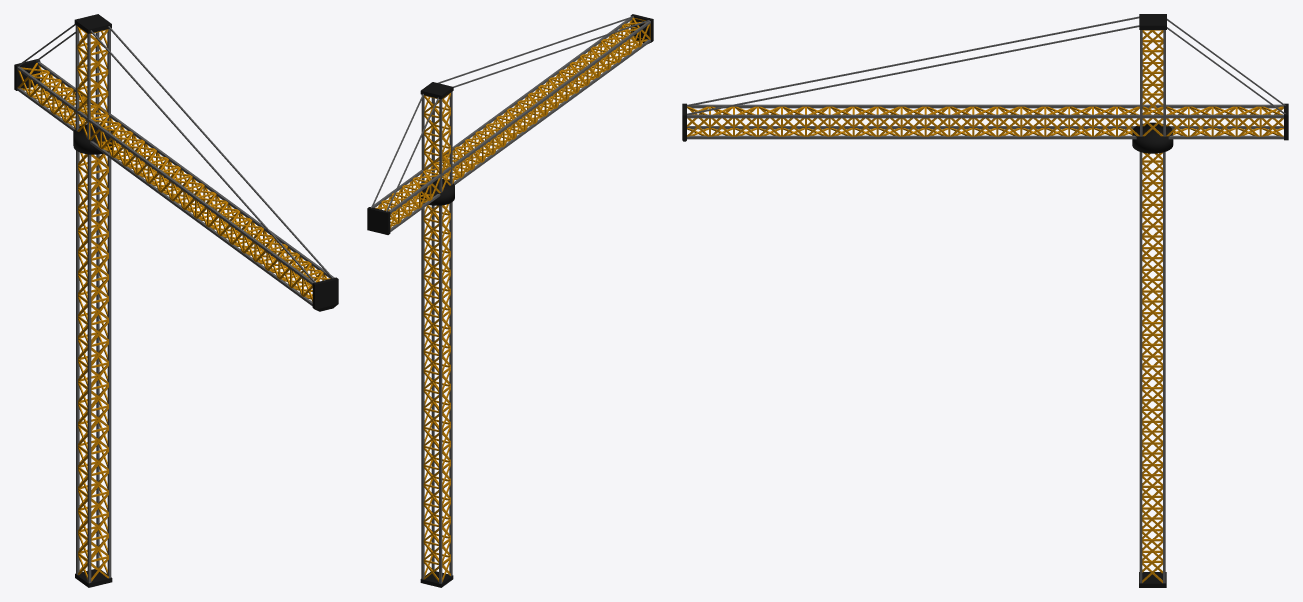
File: crane2.obj
The picture shows the model from 3 angles, left to right: view 1: azimuth 30°, elevation 25°; view 2: azimuth 150°, elevation 25°; view 3: azimuth 270°, elevation 25°; orthographic projection. The views are drawn at different scales.
Parts seen in each view (by area): view 1: corners_Cube.006, corners.001_Cube.008, Cube.008_Cube.021, Cube.002_Cube.009, Cube.004_Cube.011, Cube.001_Cube.018, Cube.005_Cube.012, Cube.007_Cube.020, Cube.003_Cube.010, Cube.006_Cube.019, corners.002_Cube.014, Cube (+7 smaller); view 2: corners_Cube.006, corners.001_Cube.008, Cube.007_Cube.020, Cube.002_Cube.009, Cube.004_Cube.011, Cube.001_Cube.018, Cube.005_Cube.012, Cube.003_Cube.010, Cube.008_Cube.021, Cube.006_Cube.019, corners.002_Cube.014, base.001_Cube.002 (+6 smaller); view 3: corners.001_Cube.008, Cube.003_Cube.010, Cube.006_Cube.019, Cube.001_Cube.018, corners_Cube.006, Cube.004_Cube.011, Cube.002_Cube.009, Cube.005_Cube.012, Cube.013_Cube.017, Cube, Cylinder_Cylinder.001, Cube.011_Cube.007.
Boxes of the visible parts, left/top/right/bottom form: corners_Cube.006: left=76, top=150, right=111, bottom=583; corners.001_Cube.008: left=17, top=61, right=334, bottom=306; Cube.008_Cube.021: left=91, top=154, right=108, bottom=581; Cube.002_Cube.009: left=17, top=70, right=312, bottom=301; Cube.004_Cube.011: left=21, top=63, right=330, bottom=282; Cube.001_Cube.018: left=78, top=152, right=87, bottom=579; Cube.005_Cube.012: left=21, top=84, right=312, bottom=299; Cube.007_Cube.020: left=79, top=154, right=97, bottom=570; Cube.003_Cube.010: left=38, top=65, right=326, bottom=281; Cube.006_Cube.019: left=98, top=153, right=107, bottom=574; corners.002_Cube.014: left=75, top=25, right=110, bottom=139; Cube: left=108, top=26, right=333, bottom=278; corners_Cube.006: left=421, top=202, right=452, bottom=583; corners.001_Cube.008: left=371, top=16, right=650, bottom=232; Cube.007_Cube.020: left=423, top=205, right=438, bottom=581; Cube.002_Cube.009: left=390, top=23, right=650, bottom=229; Cube.004_Cube.011: left=375, top=17, right=645, bottom=211; Cube.001_Cube.018: left=442, top=204, right=450, bottom=581; Cube.005_Cube.012: left=390, top=36, right=647, bottom=226; Cube.003_Cube.010: left=378, top=19, right=632, bottom=210; Cube.008_Cube.021: left=434, top=205, right=449, bottom=571; Cube.006_Cube.019: left=424, top=205, right=432, bottom=576; corners.002_Cube.014: left=421, top=91, right=452, bottom=192; base.001_Cube.002: left=367, top=207, right=390, bottom=234; corners.001_Cube.008: left=687, top=104, right=1283, bottom=139; Cube.003_Cube.010: left=687, top=118, right=1283, bottom=136; Cube.006_Cube.019: left=1142, top=152, right=1162, bottom=583; Cube.001_Cube.018: left=1142, top=153, right=1162, bottom=573; corners_Cube.006: left=1139, top=152, right=1165, bottom=583; Cube.004_Cube.011: left=687, top=106, right=1283, bottom=114; Cube.002_Cube.009: left=687, top=108, right=1283, bottom=126; Cube.005_Cube.012: left=687, top=128, right=1283, bottom=135; Cube.013_Cube.017: left=687, top=16, right=1139, bottom=106; Cube: left=687, top=25, right=1139, bottom=114; Cylinder_Cylinder.001: left=1132, top=122, right=1173, bottom=153; Cube.011_Cube.007: left=1142, top=30, right=1163, bottom=115.
Size of the model in its own units: 2.48 by 37.51 by 36.66.
